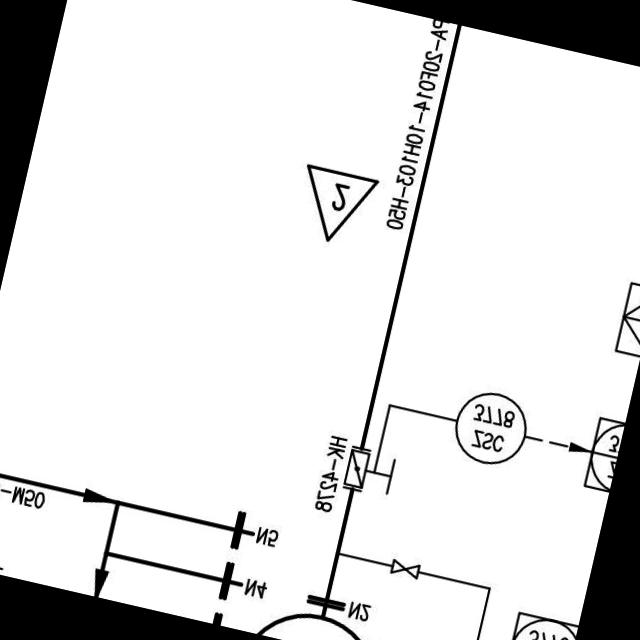BV: (334, 441, 404, 508)
GV: (382, 552, 426, 586)
